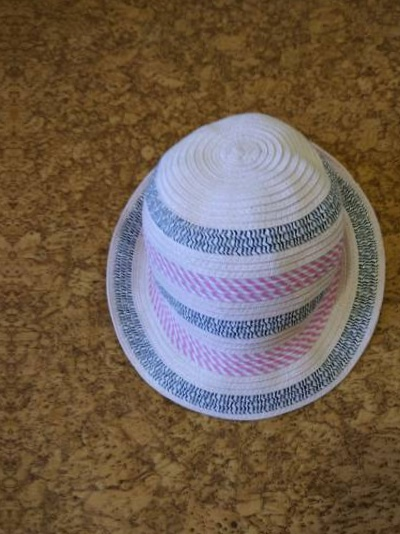Hat: (91, 86, 388, 418)
